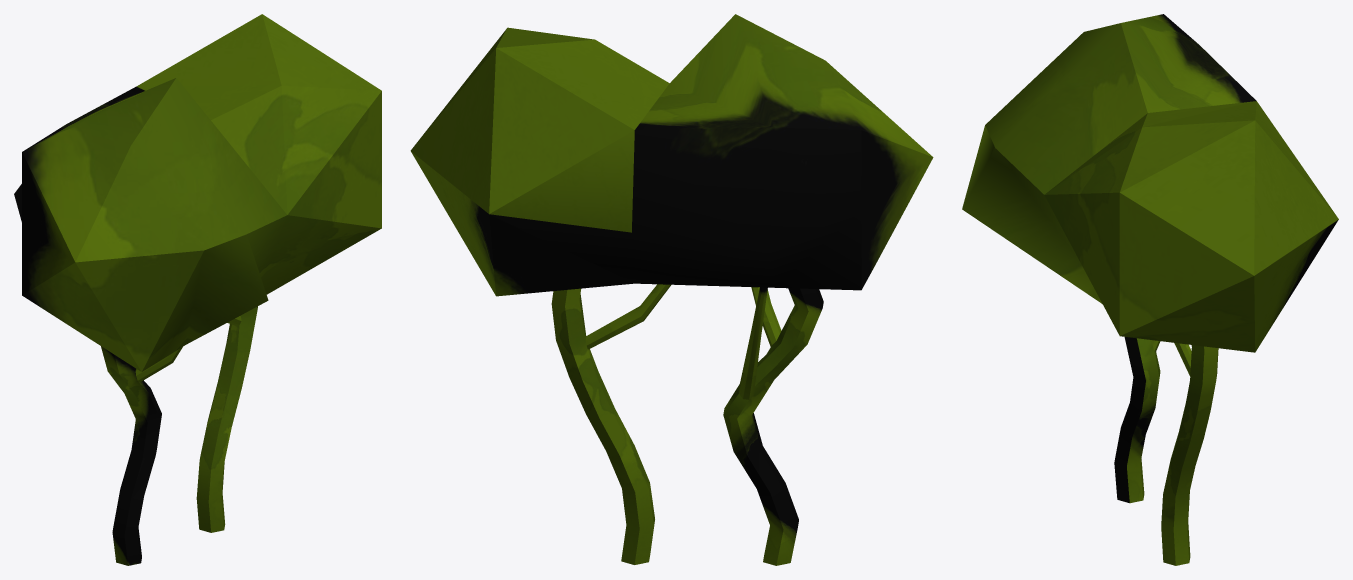
File: buissonSureleve1.fbx
The picture shows the model from 3 angles, left to right: view 1: azimuth 30°, elevation 25°; view 2: azimuth 150°, elevation 25°; view 3: azimuth 270°, elevation 25°; orthographic projection. The views are drawn at different scales.
Visible parts, largest first — view 1: feuillage, branches1, branches2; view 2: feuillage, branches1, branches2; view 3: feuillage, branches2, branches1.
Boxes of the visible parts, x1,y1,x2,y2 form: feuillage: (14,14,381,371); branches1: (101,346,182,565); branches2: (196,306,257,532); feuillage: (410,14,933,296); branches1: (723,287,823,565); branches2: (551,284,671,564); feuillage: (962,14,1338,352); branches2: (1161,343,1218,565); branches1: (1114,337,1160,503).
Size of the model in its own units: 2.93 by 3.7 by 2.5.
